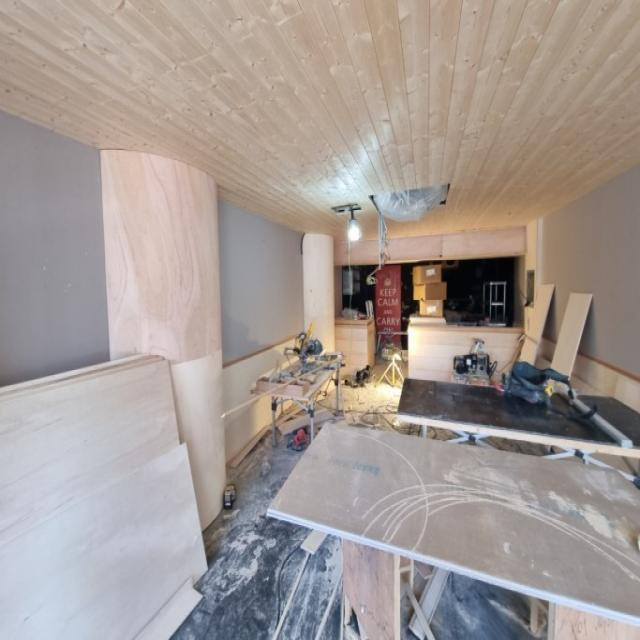board: (267, 422, 640, 624), (0, 442, 209, 640), (0, 359, 180, 546), (550, 293, 593, 382), (519, 284, 556, 367), (277, 408, 333, 436)
wood: (229, 426, 270, 468)
